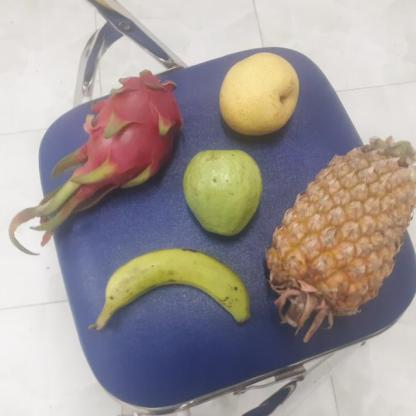banana: (88, 249, 249, 324)
guava: (178, 150, 263, 234)
pear: (216, 53, 301, 137)
pineapple: (260, 156, 411, 332)
pitaya: (81, 74, 182, 188)
